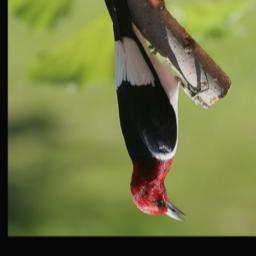Woodpecker: (99, 0, 193, 225)
